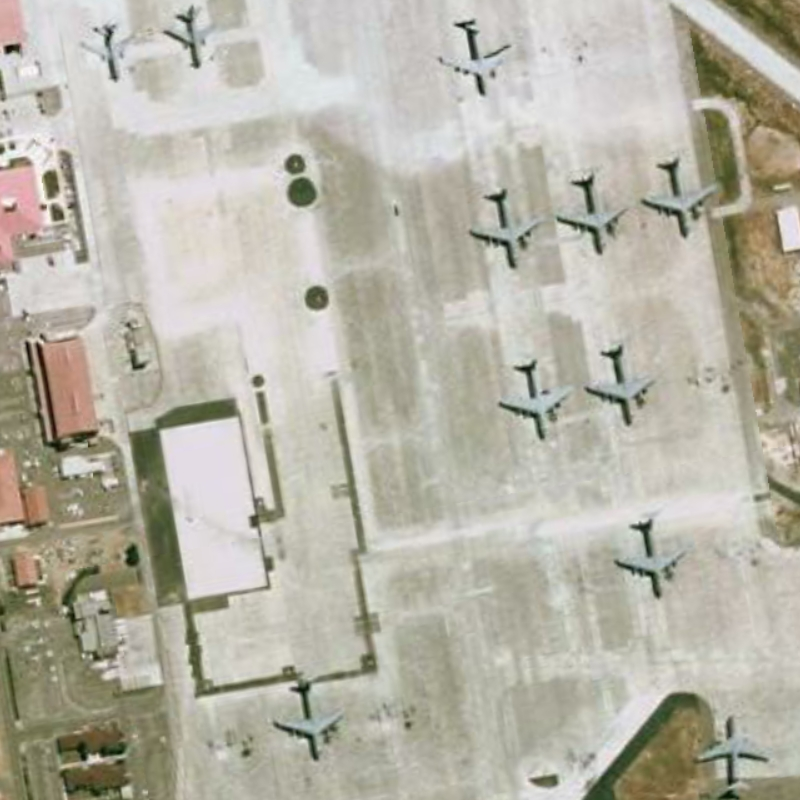A18: (77, 18, 145, 85), (160, 2, 222, 70)
A4: (638, 141, 722, 245), (583, 328, 662, 430), (552, 159, 631, 259), (464, 178, 546, 274), (494, 354, 577, 447), (611, 505, 691, 601), (272, 665, 349, 762), (695, 711, 777, 798), (437, 17, 516, 101)
